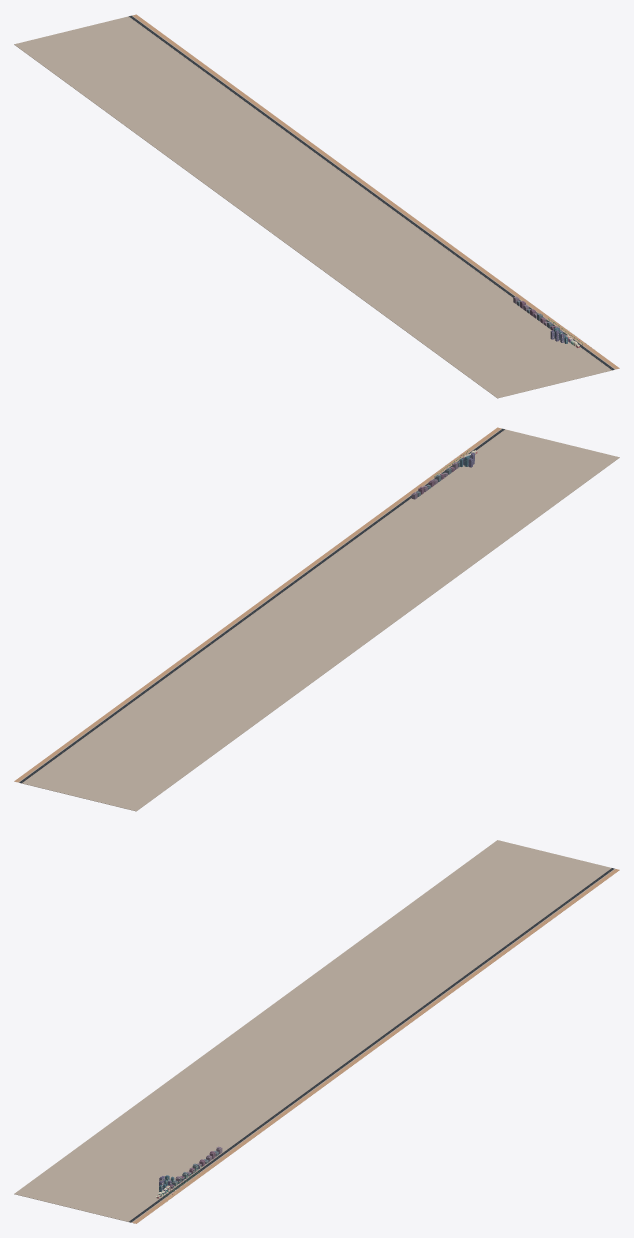
File: environment.glb
3 views of the same model, one above another, from view 1: azimuth 30°, elevation 25°; view 2: azimuth 150°, elevation 25°; view 3: azimuth 330°, elevation 25° (orthographic).
Visible parts, largest first — view 1: Coast / Promenade warm terrazzo, Coast / Warm coral sand, Coast / Blue-black asphalt; view 2: Coast / Promenade warm terrazzo, Coast / Warm coral sand, Coast / Blue-black asphalt; view 3: Coast / Promenade warm terrazzo, Coast / Warm coral sand, Coast / Blue-black asphalt.
Boxes of the visible parts, x1,y1,x2,y2 form: Coast / Promenade warm terrazzo: (14,15,615,398); Coast / Warm coral sand: (133,14,619,369); Coast / Blue-black asphalt: (129,15,614,370); Coast / Promenade warm terrazzo: (18,428,619,811); Coast / Warm coral sand: (14,427,500,782); Coast / Blue-black asphalt: (19,428,504,783); Coast / Promenade warm terrazzo: (14,840,615,1222); Coast / Warm coral sand: (132,869,619,1223); Coast / Blue-black asphalt: (129,868,614,1222).
Bounding box in the file's own units: 587 × 50.53 × 4000.
